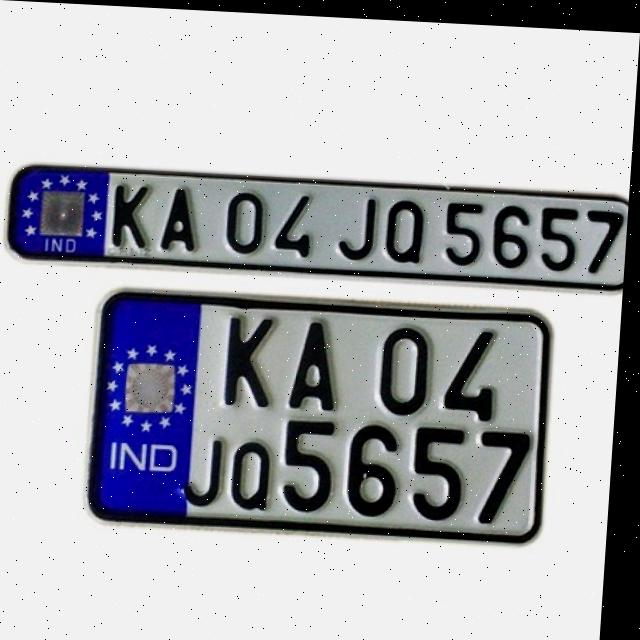plate: (80, 280, 569, 550), (2, 153, 632, 291)
